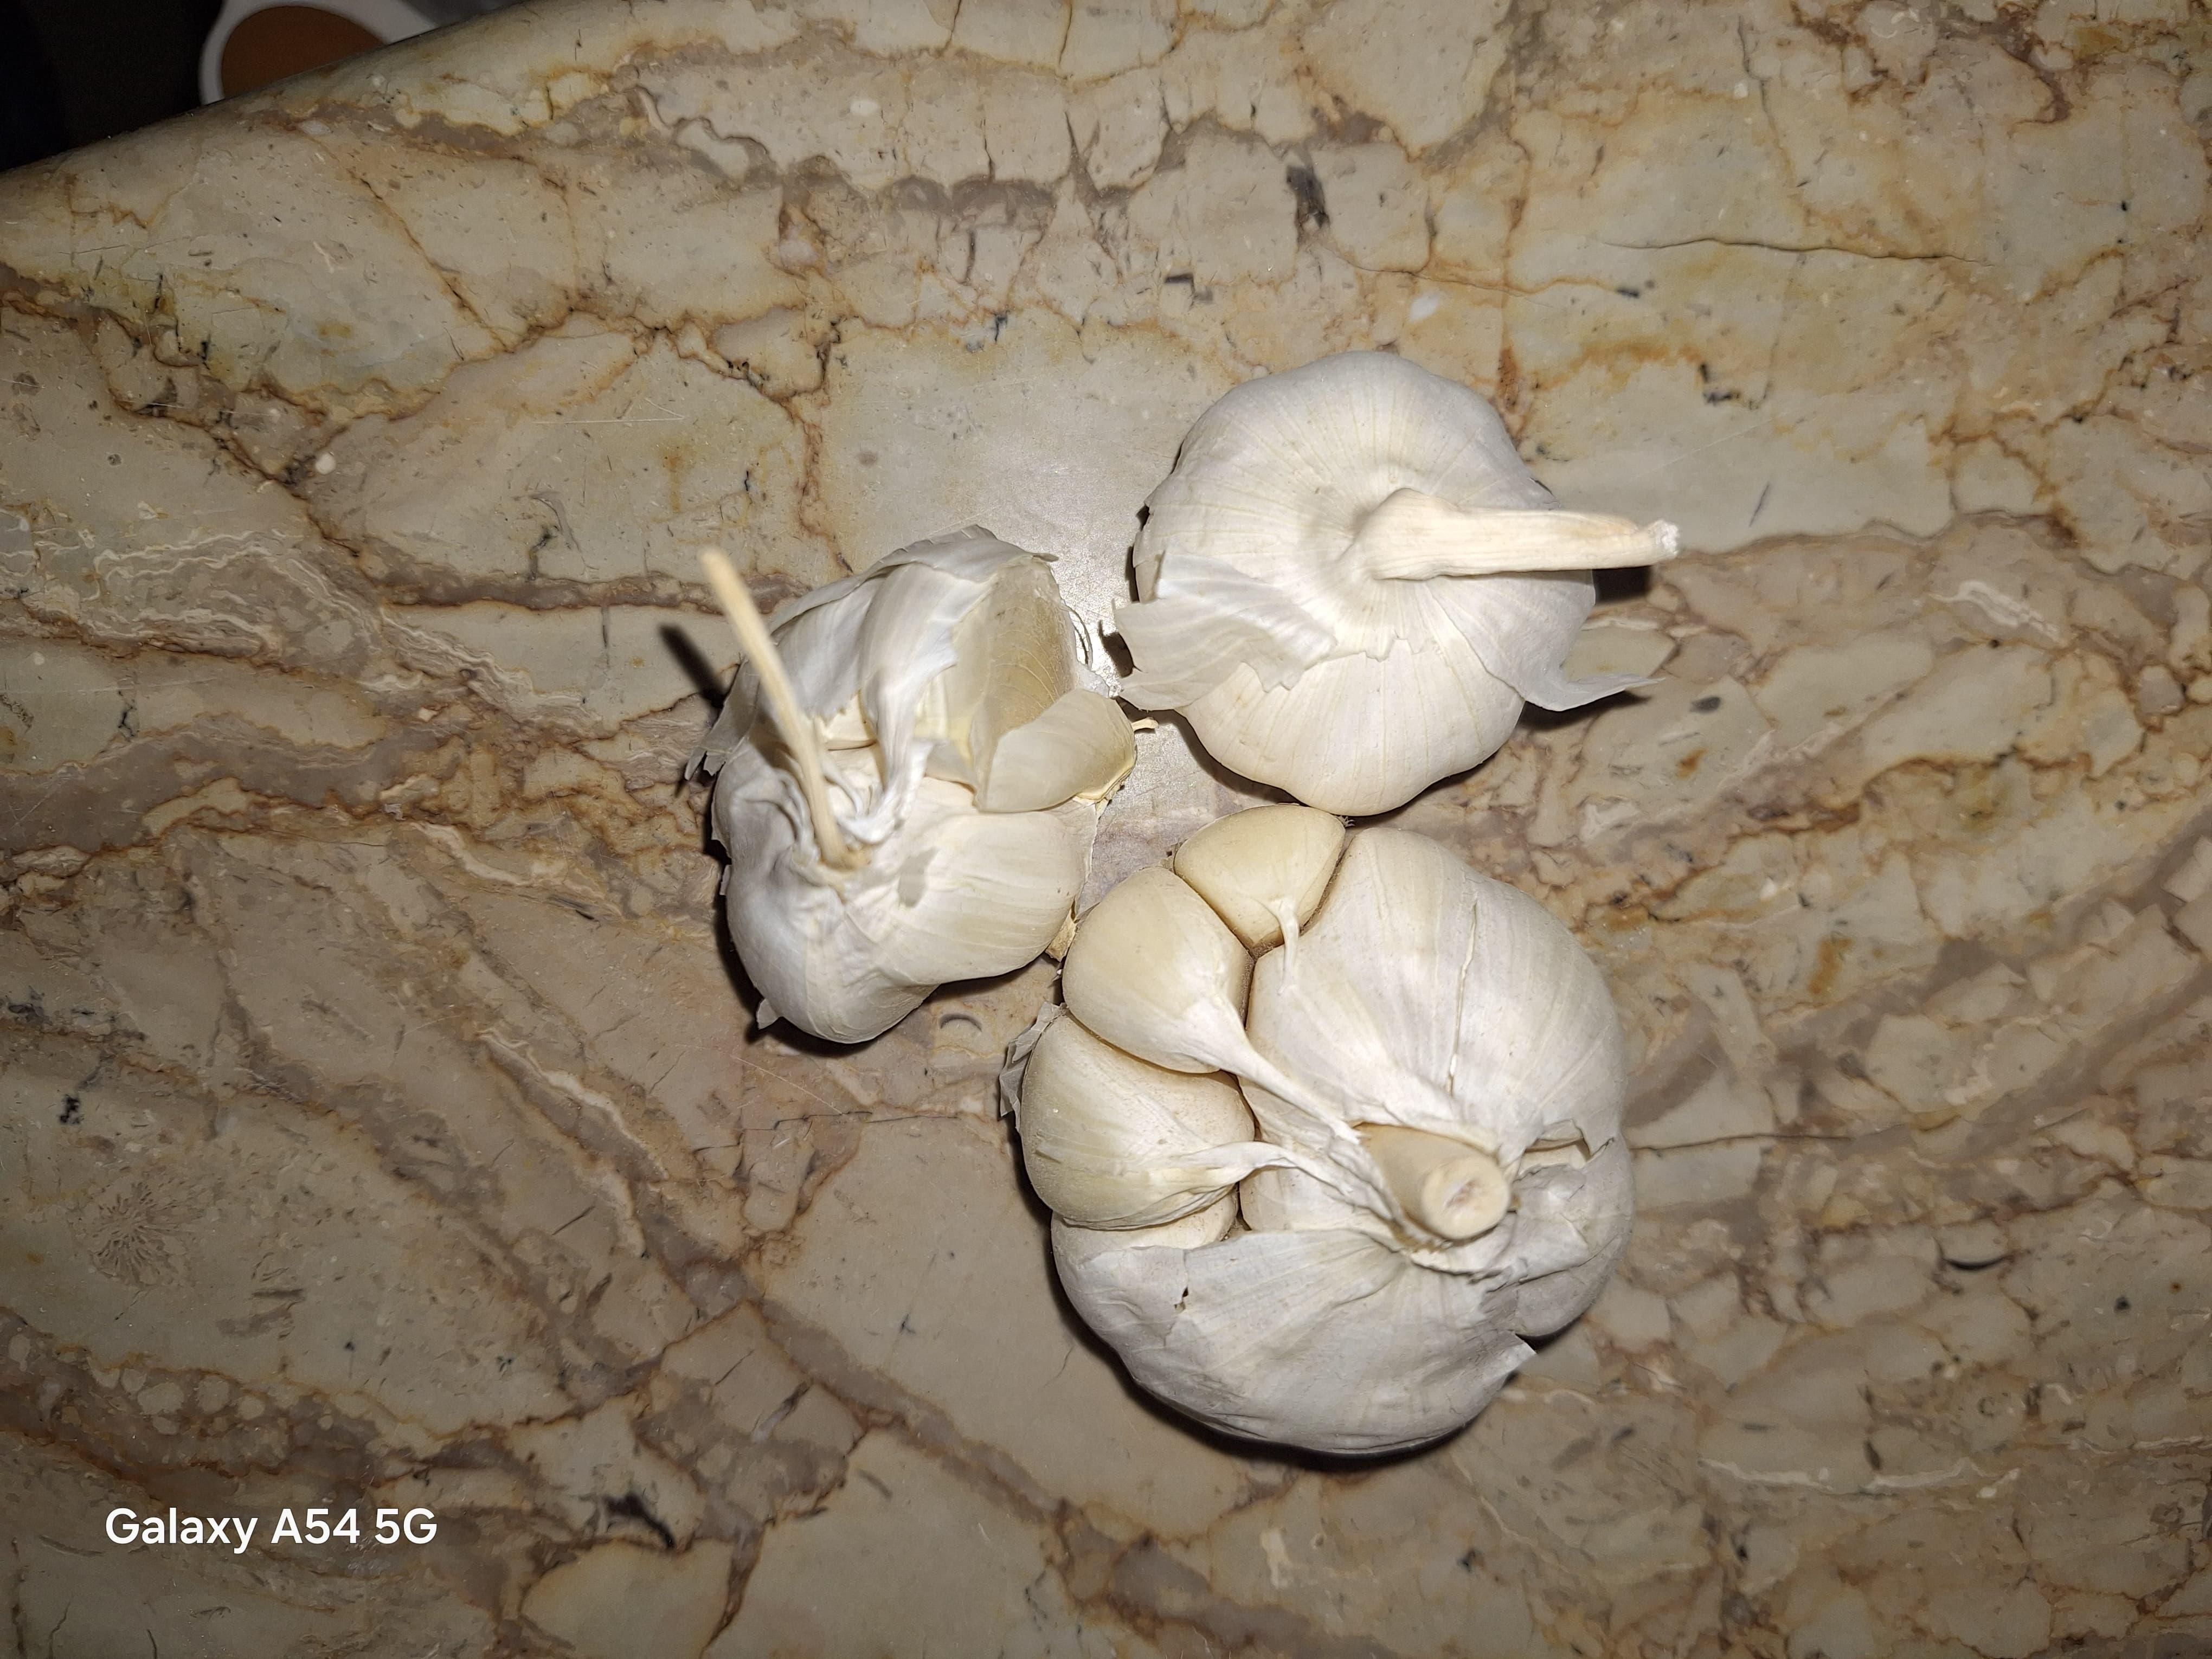non-mango: (1012, 803, 1637, 1460), (1109, 345, 1681, 817), (688, 521, 1137, 1046)
